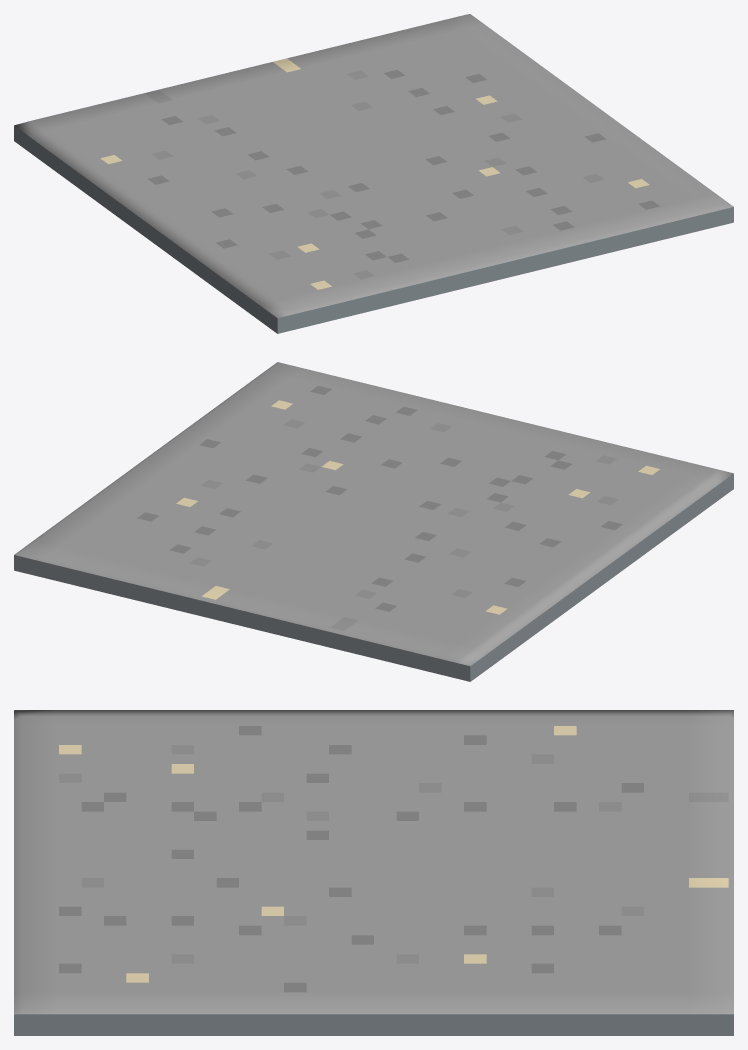
File: Flr-MHE.fbx
3 renders of one model, top to bottom at view 1: azimuth 30°, elevation 25°; view 2: azimuth 150°, elevation 25°; view 3: azimuth 270°, elevation 25°, orthographic. The views are drawn at different scales.
Visible parts, largest first — view 1: MHE_Lane; view 2: MHE_Lane; view 3: MHE_Lane.
Part boxes in pixels (bbox=[...]): MHE_Lane: bbox=[14, 14, 733, 333]; MHE_Lane: bbox=[14, 362, 733, 681]; MHE_Lane: bbox=[14, 710, 733, 1035].
Size of the model in its own units: 1.32 by 1.33 by 0.05.
